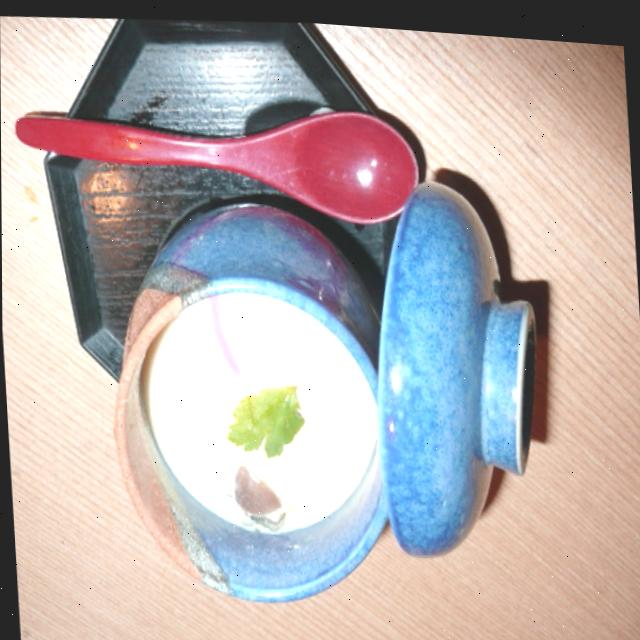鸡蛋料理: (114, 193, 403, 640)
